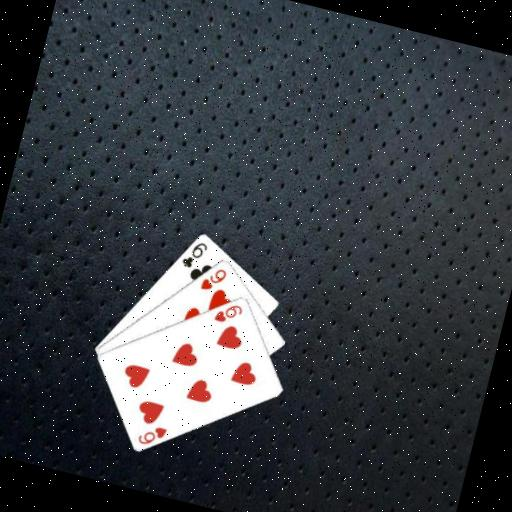6C: (177, 235, 211, 273)
6H: (133, 419, 170, 451), (210, 297, 246, 329)
9H: (197, 261, 230, 295)
